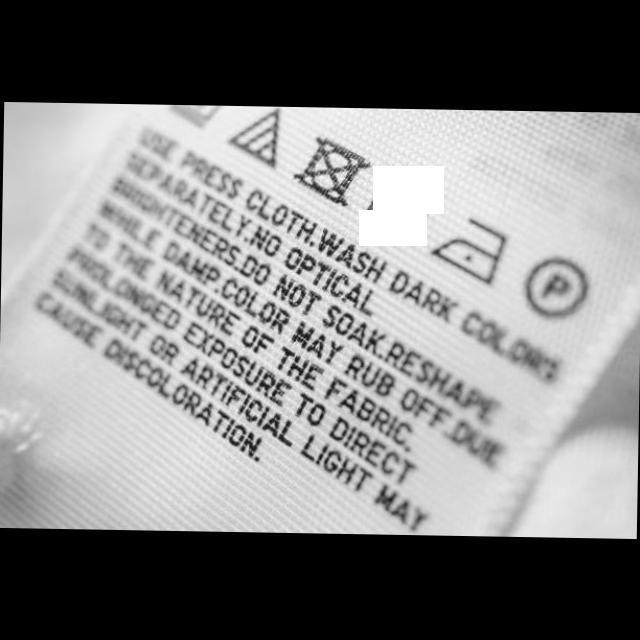DN_tumble_dry: (288, 133, 372, 209)
iron_low: (428, 214, 508, 286)
non_chlorine_bleach: (222, 106, 286, 172)
normal_dry_clean_solvents: (520, 254, 592, 322)
